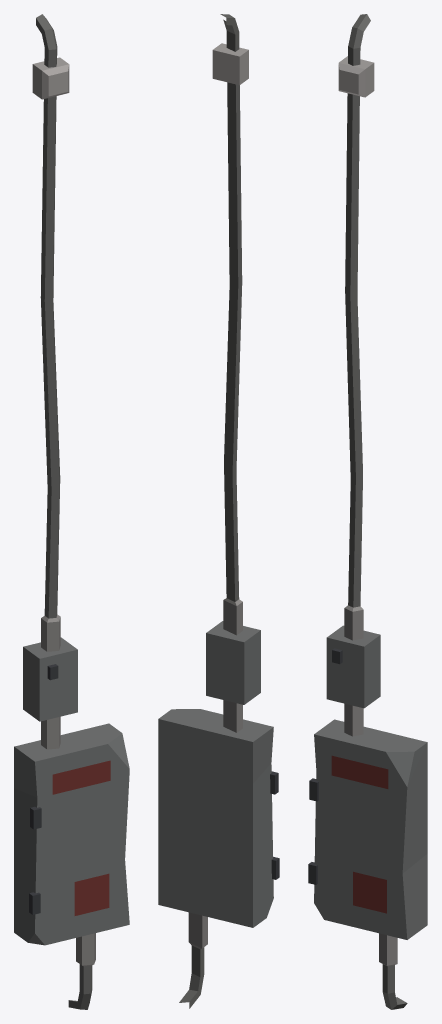
File: SM_Prop_PowerBox_04.glb
The picture shows the model from 3 angles, left to right: view 1: azimuth 30°, elevation 25°; view 2: azimuth 150°, elevation 25°; view 3: azimuth 330°, elevation 25°; orthographic projection.
Visible parts, largest first — view 1: SM_Prop_PowerBox_04; view 2: SM_Prop_PowerBox_04; view 3: SM_Prop_PowerBox_04.
Boxes of the visible parts, bbox=[...] form: SM_Prop_PowerBox_04: bbox=[14, 14, 129, 1009]; SM_Prop_PowerBox_04: bbox=[158, 14, 279, 1008]; SM_Prop_PowerBox_04: bbox=[308, 14, 427, 1009].
Bounding box in the file's own units: 0.3993 × 3.87 × 0.1901.
Materials: 1 (1 with a texture image).
